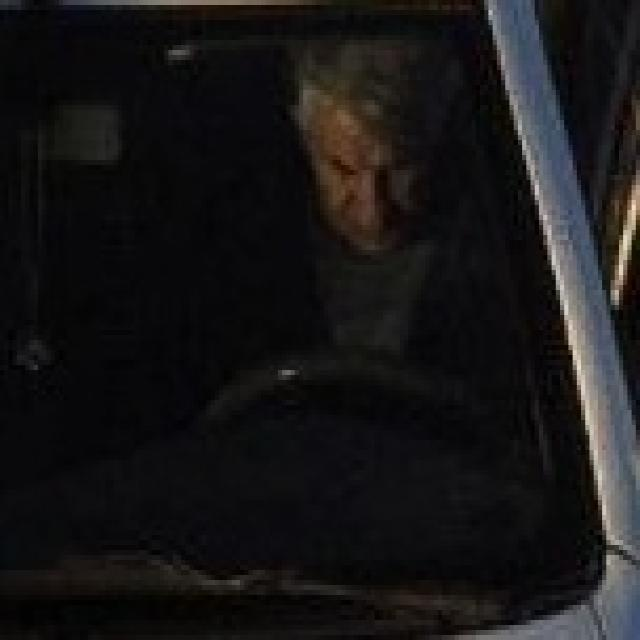No-seat-belt: (106, 74, 621, 556)
